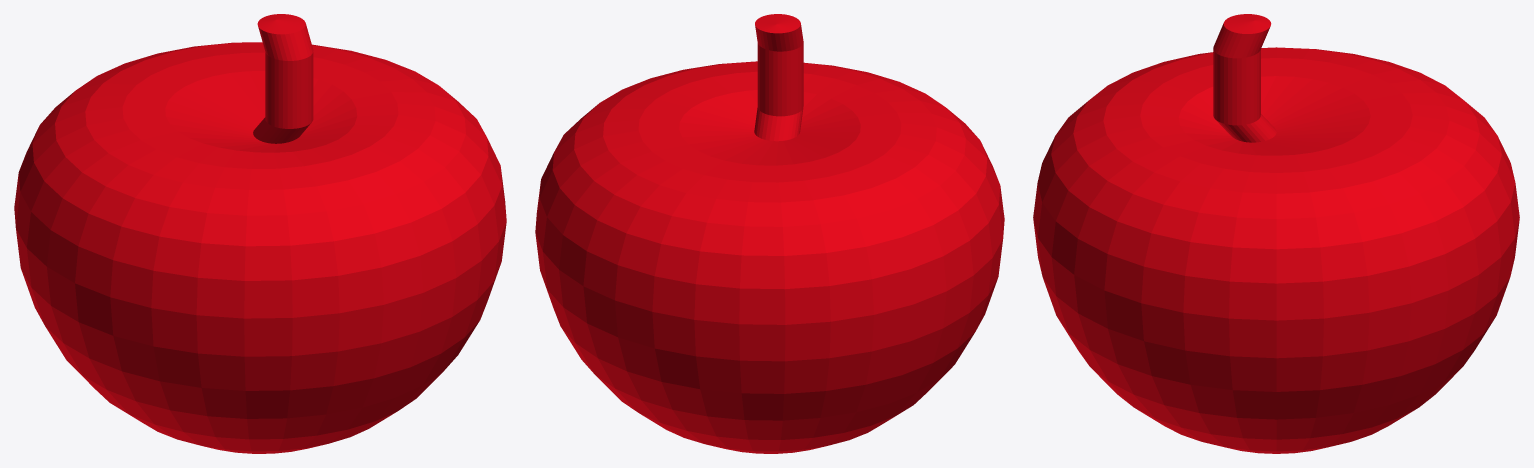
The model's file is manzana.fbx.
3 renders of one model, left to right at view 1: azimuth 30°, elevation 25°; view 2: azimuth 150°, elevation 25°; view 3: azimuth 270°, elevation 25°, orthographic. The views are drawn at different scales.
Visible parts, largest first — view 1: Sphere; view 2: Sphere; view 3: Sphere.
Boxes of the visible parts, <box> form: Sphere: <box>14,14,506,453</box>; Sphere: <box>535,14,1004,453</box>; Sphere: <box>1033,14,1519,453</box>.
Bounding box in the file's own units: 196 × 183 × 196.
